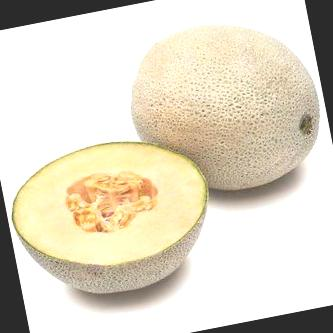Melon Ripe: (117, 5, 330, 206), (0, 124, 222, 308)
